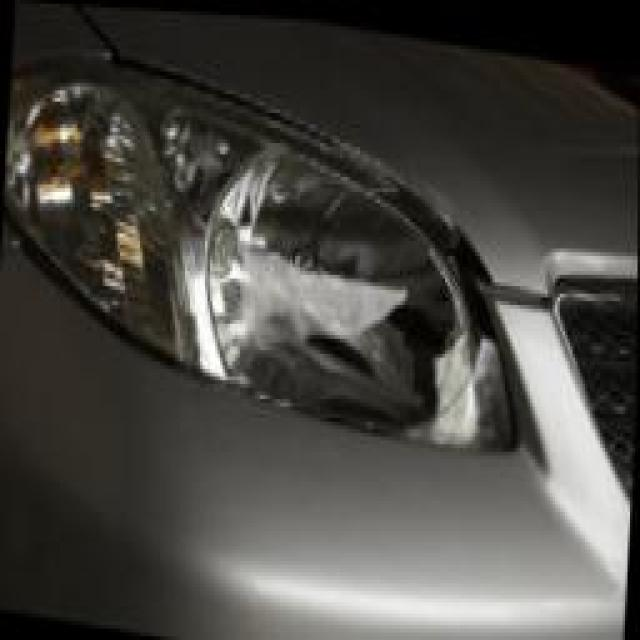Light: (2, 62, 524, 433)
